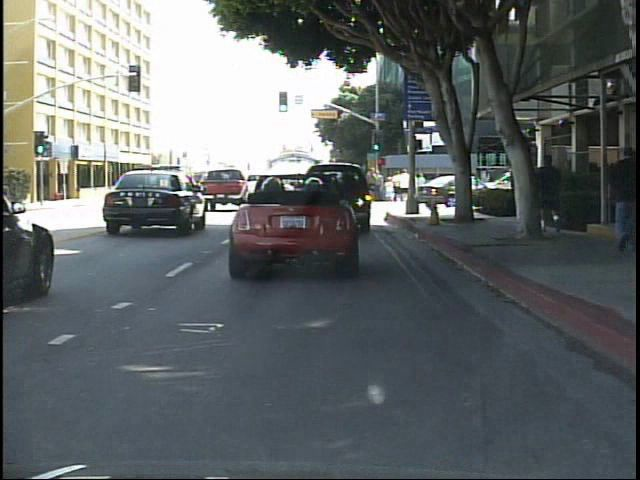person: (605, 141, 638, 260), (539, 146, 571, 237), (129, 175, 147, 202)
